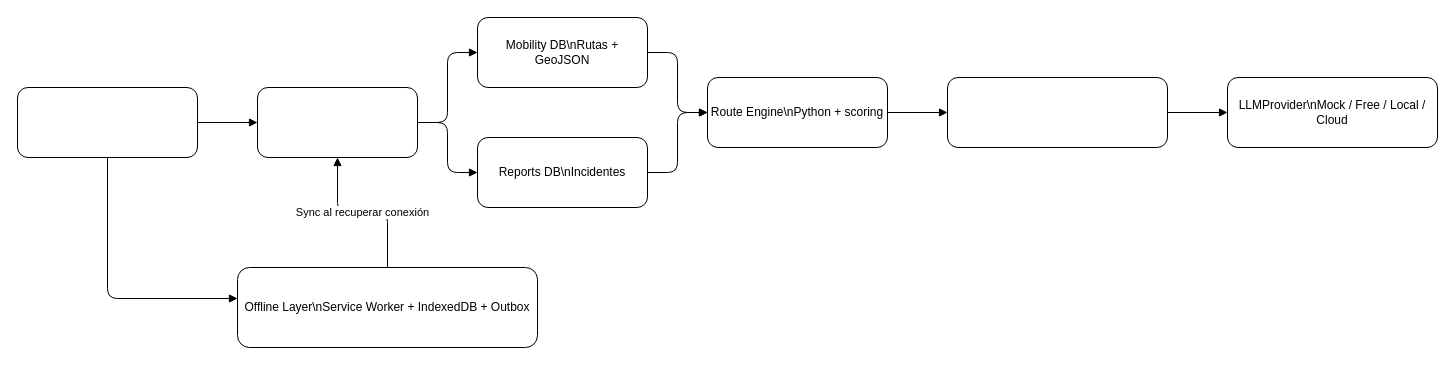
The diagram is 1455 pixels wide and 365 high, and some of its shapes have lost their labels. Each missing label, with the box of its shape:
FastAPI\nREST / JSON: (256, 86, 418, 158)
LangGraph\nParse → Retrieve → Evaluate → Explain: (946, 76, 1168, 148)
PWA Mobile\nReact/Vite + Leaflet: (16, 86, 198, 158)
